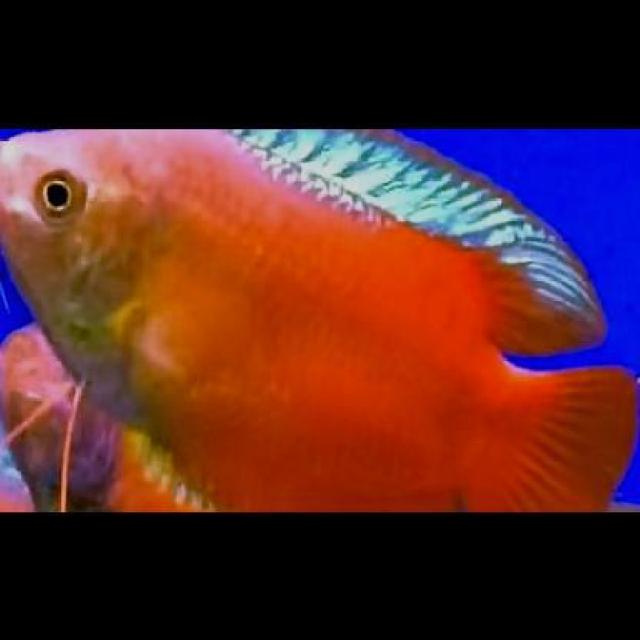Gourami: (1, 126, 638, 514)
